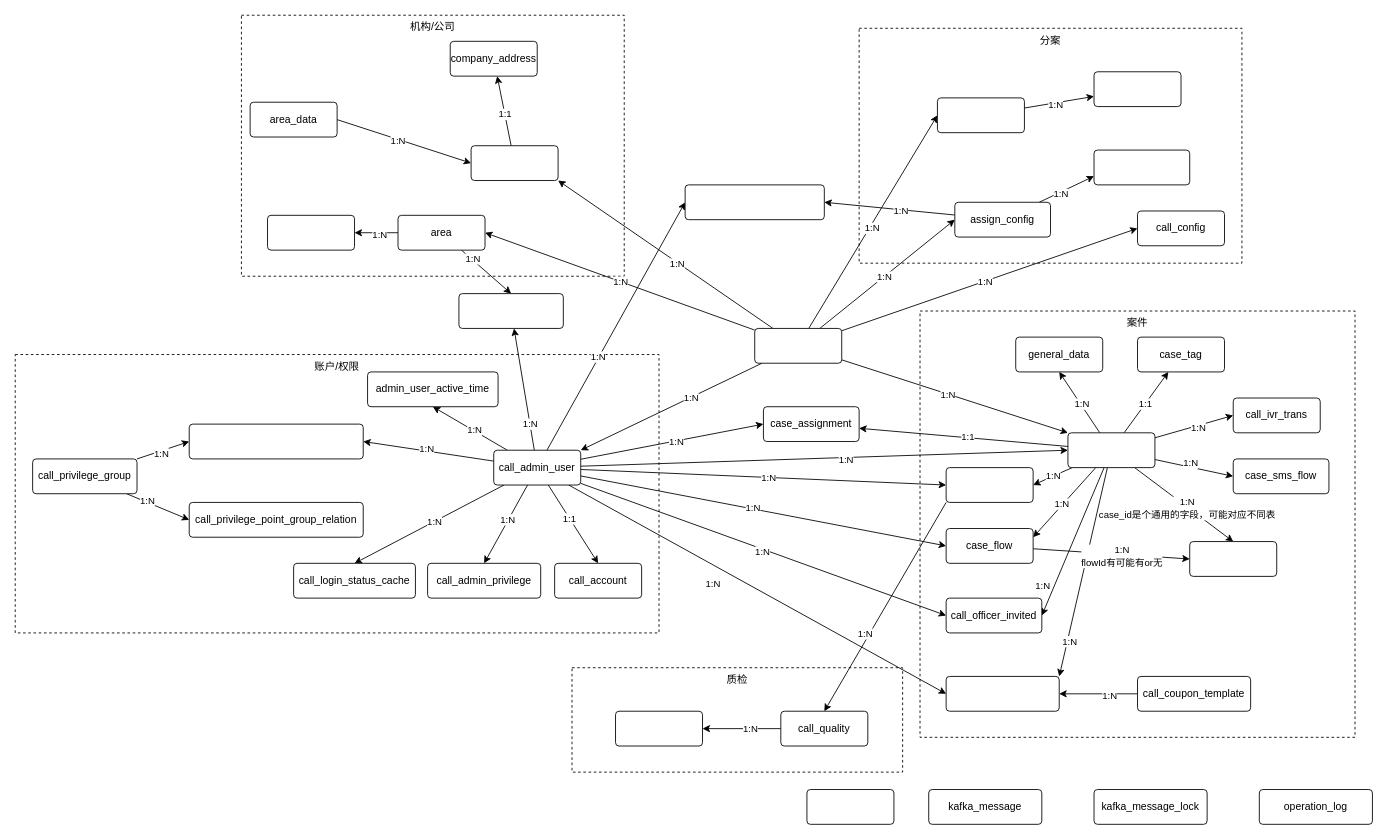
Image size: 1388x840. Some labels were removed from this diagram. The centre of each missing label's shape, as x and y in pixels:
area_tag: (311,232)
assign_config_tag: (1141,167)
assign_config_user_relation: (754,202)
business_type: (798,345)
call_case: (1111,450)
call_case_comp: (850,806)
call_detail: (989,484)
call_notification: (1233,558)
call_quality_flow: (659,728)
call_user_privilege_group_relation: (275,441)
case_tag_config: (980,115)
case_tag_sms: (1137,89)
company: (514,163)
coupon_send_history: (1002,693)
user_area_relation: (510,310)
